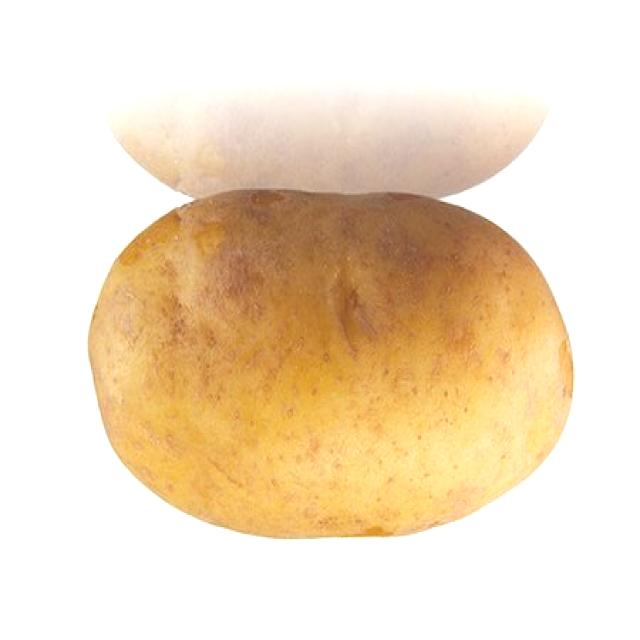potato: (92, 199, 575, 542), (107, 94, 559, 205)
